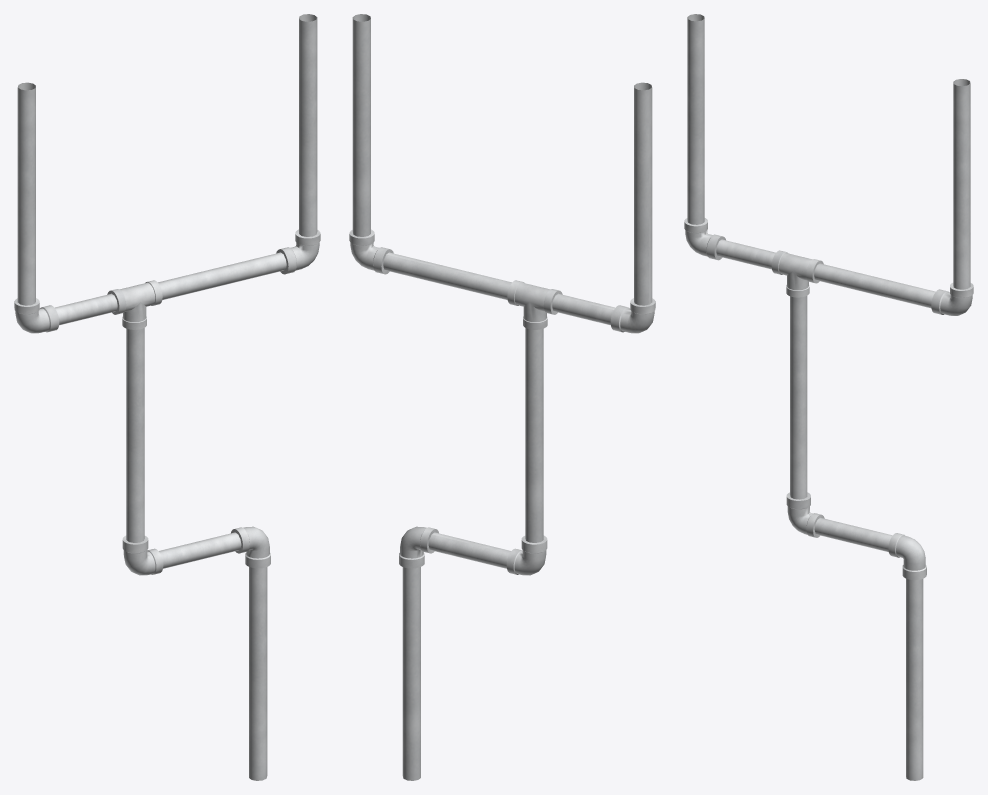
Rendered from pipe_setup2.fbx.
3 renders of one model, left to right at view 1: azimuth 30°, elevation 25°; view 2: azimuth 150°, elevation 25°; view 3: azimuth 330°, elevation 25°, orthographic. The views are drawn at different scales.
Parts seen in each view (by area): view 1: polySurface7, pCylinder20, pCylinder14, pCylinder21, pCylinder15, polySurface2, pCylinder16, pCylinder13, polySurface6, polySurface5, pCylinder17, pCylinder18; view 2: polySurface7, pCylinder20, pCylinder14, pCylinder21, pCylinder15, polySurface2, pCylinder16, pCylinder13, polySurface6, polySurface5, pCylinder17, pCylinder18; view 3: pCylinder20, polySurface7, pCylinder14, pCylinder21, pCylinder15, polySurface2, pCylinder16, pCylinder17, polySurface5, pCylinder18, pCylinder13, polySurface6.
Part boxes in pixels (left/top/right/bottom): polySurface7: left=17, top=82, right=35, bottom=305; pCylinder20: left=299, top=14, right=317, bottom=236; pCylinder14: left=126, top=328, right=144, bottom=542; pCylinder21: left=249, top=567, right=267, bottom=780; pCylinder15: left=158, top=252, right=286, bottom=299; polySurface2: left=107, top=280, right=162, bottom=329; pCylinder16: left=159, top=532, right=241, bottom=568; pCylinder13: left=122, top=535, right=163, bottom=575; polySurface6: left=14, top=298, right=59, bottom=333; polySurface5: left=54, top=293, right=117, bottom=325; pCylinder17: left=231, top=526, right=270, bottom=568; pCylinder18: left=276, top=229, right=320, bottom=274; polySurface7: left=634, top=82, right=652, bottom=305; pCylinder20: left=352, top=14, right=370, bottom=236; pCylinder14: left=525, top=328, right=543, bottom=542; pCylinder21: left=402, top=567, right=420, bottom=780; pCylinder15: left=383, top=252, right=511, bottom=299; polySurface2: left=507, top=280, right=562, bottom=329; pCylinder16: left=428, top=532, right=510, bottom=568; pCylinder13: left=506, top=535, right=547, bottom=575; polySurface6: left=610, top=298, right=655, bottom=333; polySurface5: left=552, top=293, right=615, bottom=325; pCylinder17: left=399, top=526, right=438, bottom=568; pCylinder18: left=349, top=229, right=393, bottom=274; pCylinder20: left=953, top=79, right=970, bottom=289; polySurface7: left=687, top=14, right=704, bottom=224; pCylinder14: left=790, top=296, right=807, bottom=499; pCylinder21: left=906, top=578, right=923, bottom=780; pCylinder15: left=814, top=263, right=935, bottom=308; polySurface2: left=771, top=250, right=823, bottom=297; pCylinder16: left=814, top=517, right=892, bottom=551; pCylinder17: left=888, top=533, right=926, bottom=579; polySurface5: left=716, top=239, right=775, bottom=269; pCylinder18: left=931, top=283, right=973, bottom=315; pCylinder13: left=786, top=492, right=824, bottom=537; polySurface6: left=684, top=218, right=725, bottom=260.
Bounding box in the file's own units: 17.04 × 40.16 × 1.26.
Materials: 3 (3 with a texture image).
